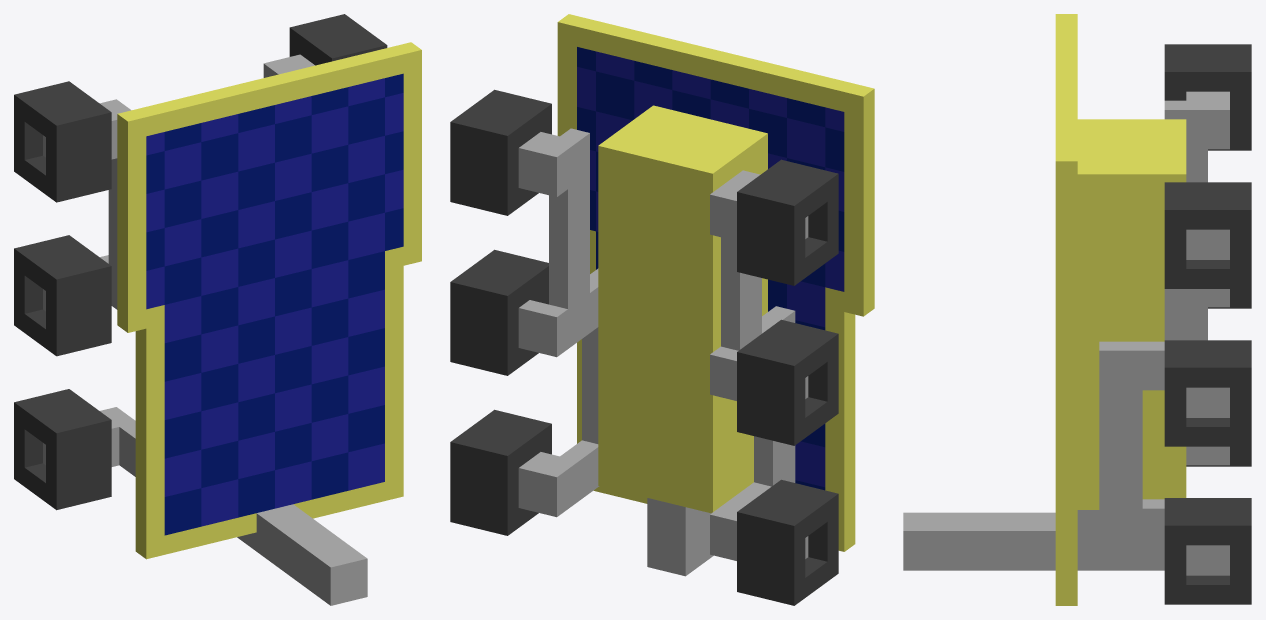
Rendered from pathfinder body.obj.
3 renders of one model, left to right at view 1: azimuth 30°, elevation 25°; view 2: azimuth 150°, elevation 25°; view 3: azimuth 270°, elevation 25°, orthographic. The views are drawn at different scales.
Size of the model in its own units: 18 by 24 by 16.
Materials: 1 (1 with a texture image).
